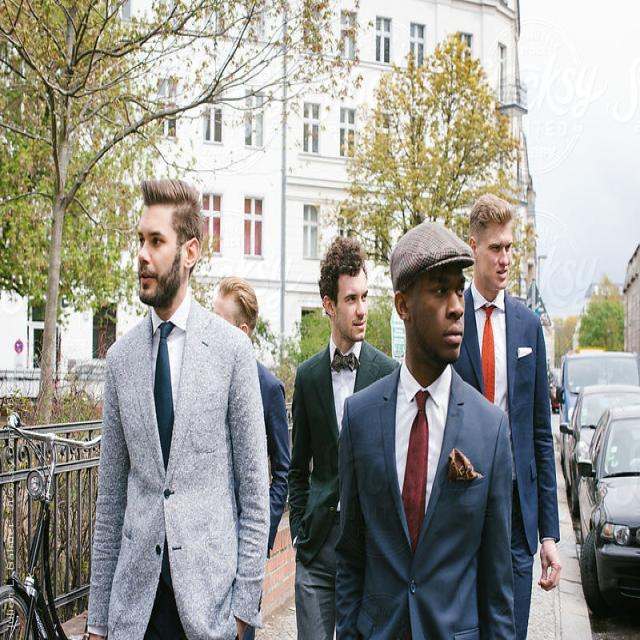body: (82, 171, 275, 639), (330, 216, 520, 639), (449, 189, 565, 639), (284, 233, 402, 640), (210, 275, 291, 640), (596, 424, 638, 474)
